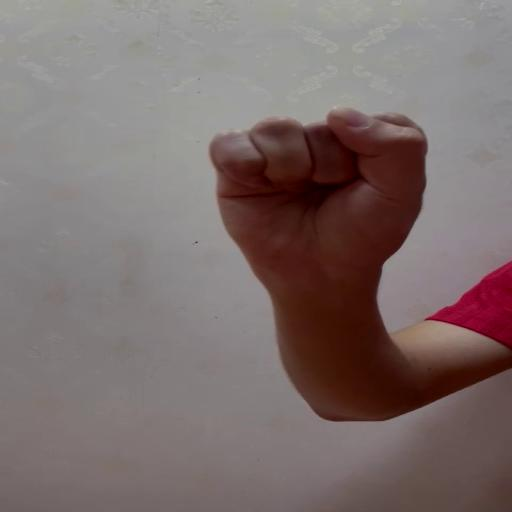fist: (208, 107, 428, 275)
